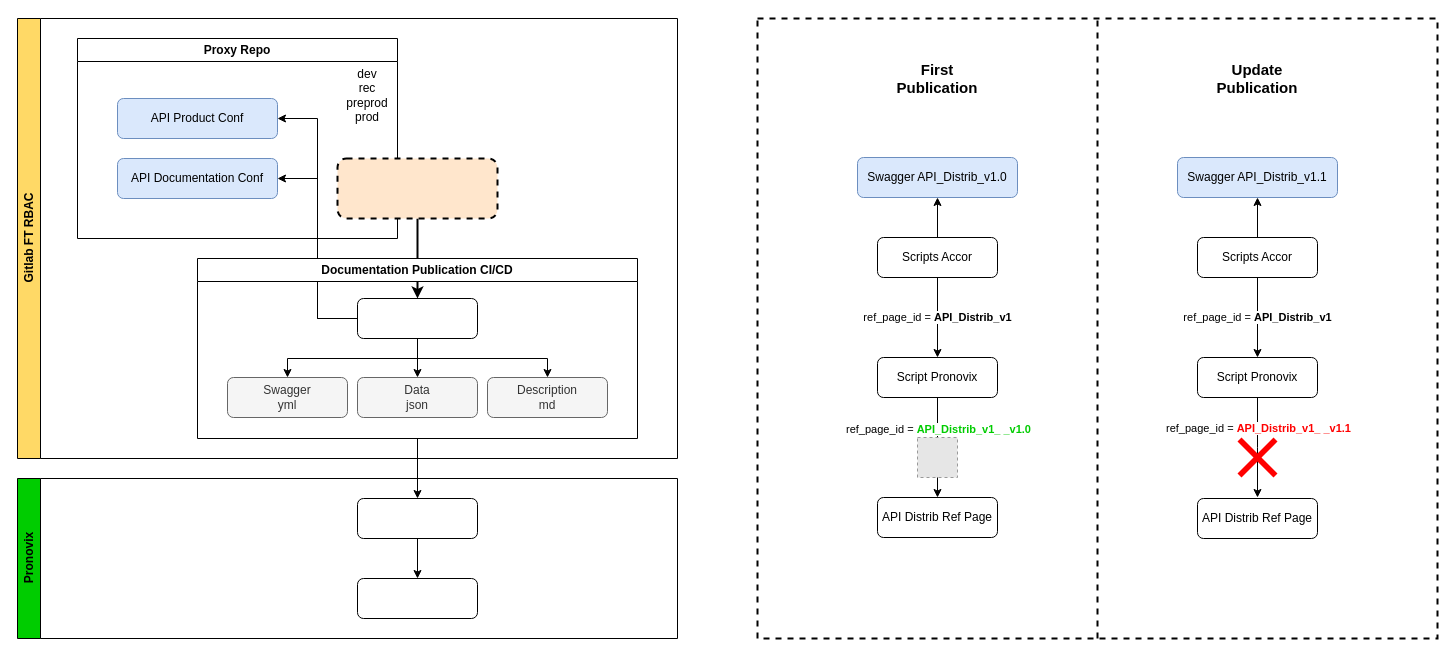
Some shapes in this 1456 by 657 pixel diagram are drawn without their labels. Grey dashed boxes stand in for pictures. Here are the shapes that lost their labels. From the top down, the centre of each, then its label:
(417,188): Documentation Publication CI/CD Job
(417,318): Accor Script
(417,518): Pronovix Script
(417,598): Portal
